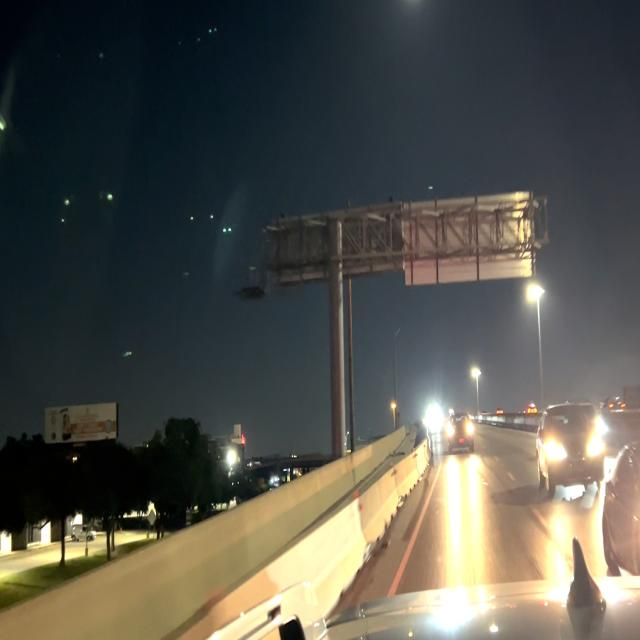back-of-sign: (397, 191, 542, 294)
